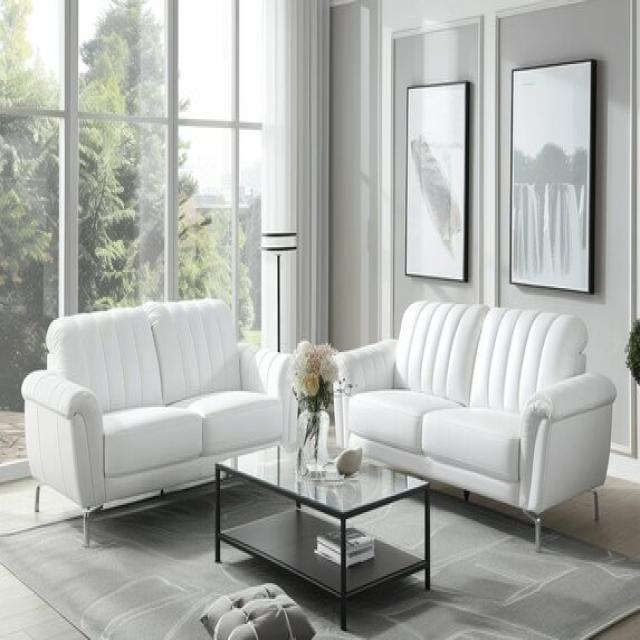sofa: (332, 297, 616, 553), (20, 295, 298, 548)
